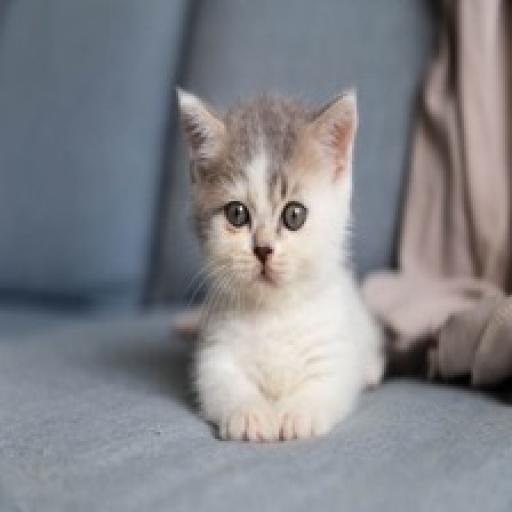cat: (150, 74, 394, 456)
